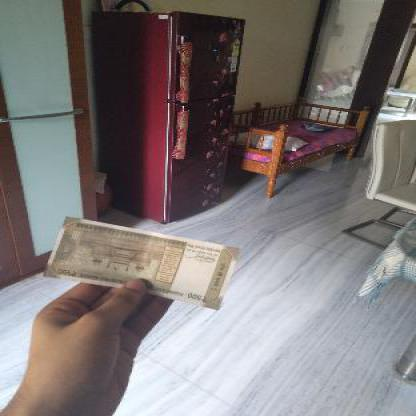New500Back: (44, 218, 240, 308)
